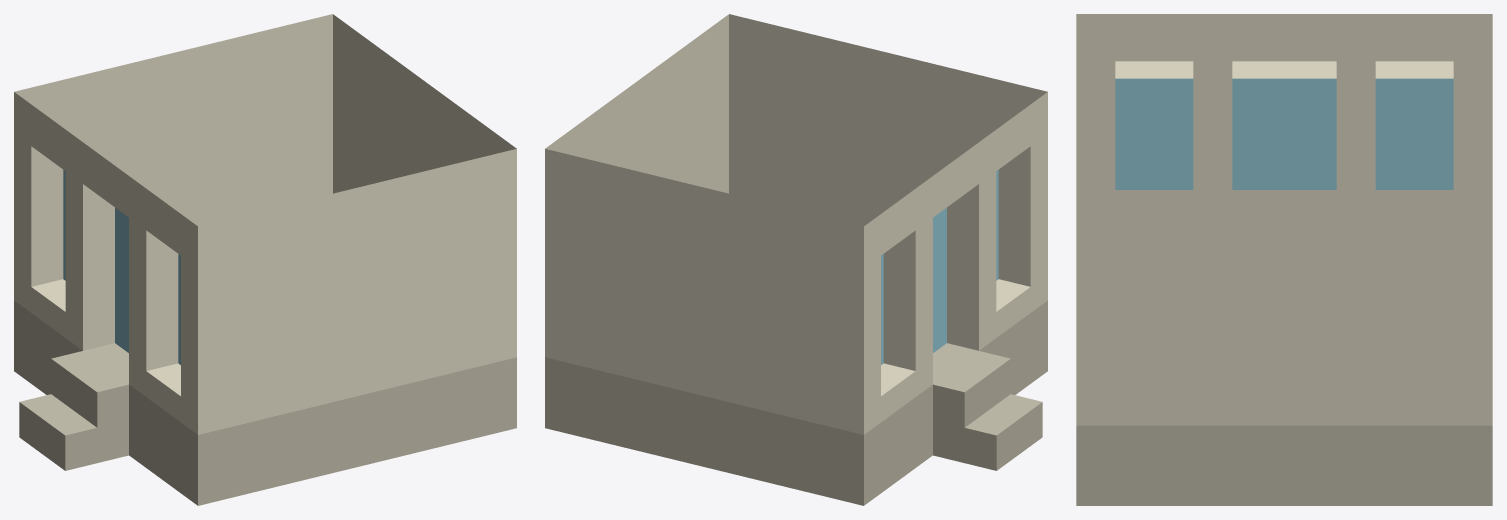
File: modularBuildings_024.obj
The picture shows the model from 3 angles, left to right: view 1: azimuth 30°, elevation 25°; view 2: azimuth 150°, elevation 25°; view 3: azimuth 270°, elevation 25°; orthographic projection. The views are drawn at different scales.
Parts seen in each view (by area): view 1: modularBuildings_024_modularBuildings_024_Brick, modularBuildings_024_modularBuildings_024_Dark_brick, modularBuildings_024_modularBuildings_024_Glass; view 2: modularBuildings_024_modularBuildings_024_Brick, modularBuildings_024_modularBuildings_024_Dark_brick, modularBuildings_024_modularBuildings_024_Glass; view 3: modularBuildings_024_modularBuildings_024_Brick, modularBuildings_024_modularBuildings_024_Dark_brick, modularBuildings_024_modularBuildings_024_Glass.
Part boxes in pixels (x1,y1,x2,y2): modularBuildings_024_modularBuildings_024_Brick: (14,14,516,434); modularBuildings_024_modularBuildings_024_Dark_brick: (14,300,516,505); modularBuildings_024_modularBuildings_024_Glass: (63,170,180,364); modularBuildings_024_modularBuildings_024_Brick: (545,14,1047,434); modularBuildings_024_modularBuildings_024_Dark_brick: (545,300,1047,505); modularBuildings_024_modularBuildings_024_Glass: (881,170,998,364); modularBuildings_024_modularBuildings_024_Brick: (1076,14,1492,425); modularBuildings_024_modularBuildings_024_Dark_brick: (1076,425,1492,505); modularBuildings_024_modularBuildings_024_Glass: (1115,78,1453,189).
Size of the model in its own units: 1.2 by 0.8375 by 1.
